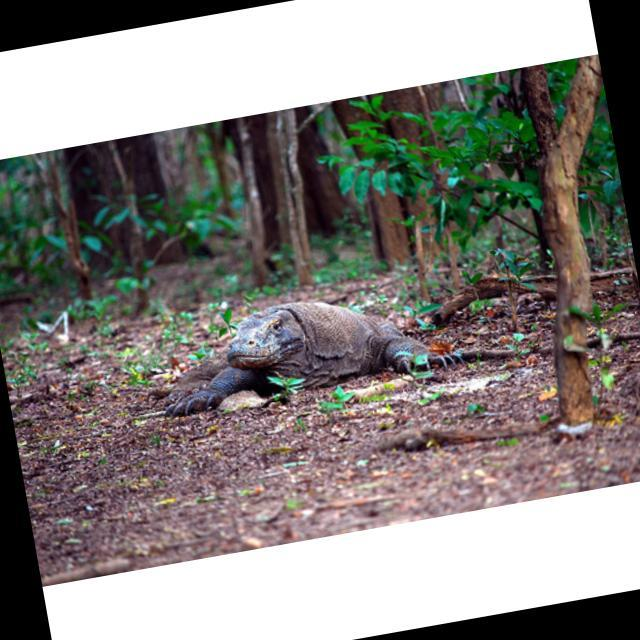KomodoDragon: (153, 271, 464, 420)
